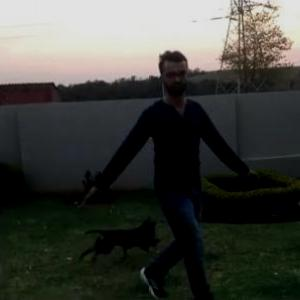land: (88, 67, 252, 284)
